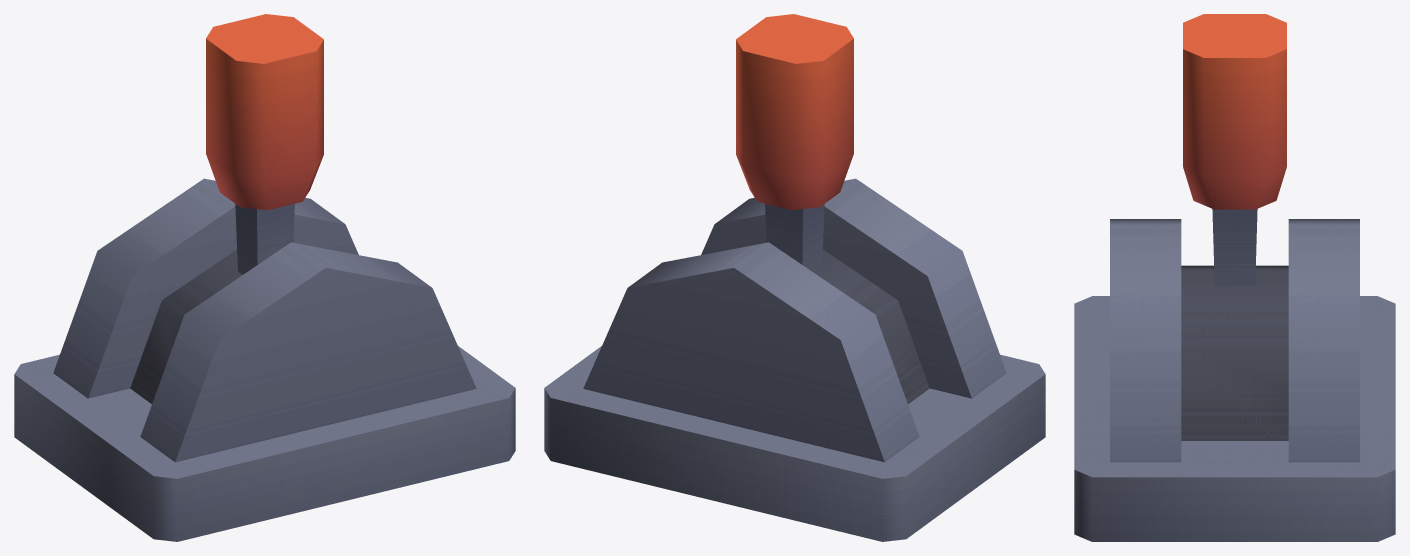
File: lever.glb
3 views of the same model, side by side, from view 1: azimuth 30°, elevation 25°; view 2: azimuth 150°, elevation 25°; view 3: azimuth 270°, elevation 25° (orthographic). The views are drawn at different scales.
Parts seen in each view (by area): view 1: lever, handle; view 2: lever, handle; view 3: lever, handle.
Part boxes in pixels (left/top/right/bottom): lever: left=14, top=178, right=515, bottom=541; handle: left=206, top=14, right=323, bottom=274; lever: left=544, top=178, right=1045, bottom=541; handle: left=736, top=14, right=853, bottom=274; lever: left=1074, top=219, right=1395, bottom=541; handle: left=1183, top=14, right=1286, bottom=286.
Bounding box in the file's own units: 0.6 × 0.6418 × 0.45.
1 material, 1 textured.
